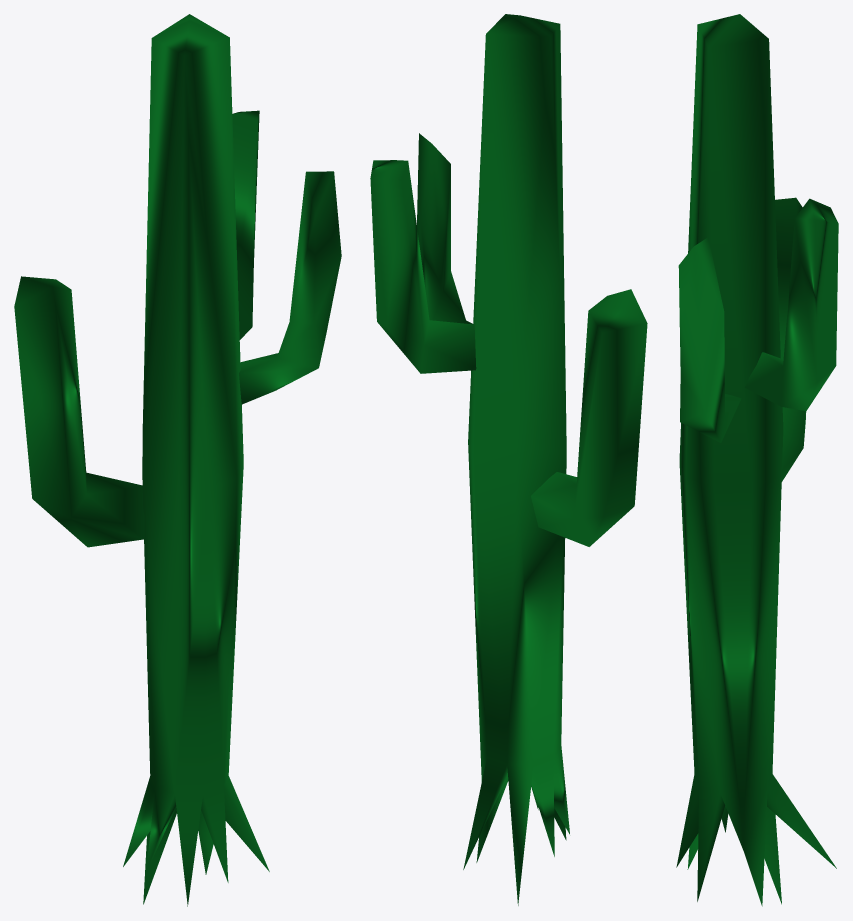
File: SeguaroCactusLarge3_LOD2.obj
3 renders of one model, left to right at view 1: azimuth 30°, elevation 25°; view 2: azimuth 150°, elevation 25°; view 3: azimuth 270°, elevation 25°, orthographic. The views are drawn at different scales.
Parts seen in each view (by area): view 1: SeguaroCactusLarge3_LOD2; view 2: SeguaroCactusLarge3_LOD2; view 3: SeguaroCactusLarge3_LOD2.
Boxes of the visible parts, <box> form: SeguaroCactusLarge3_LOD2: <box>14,14,341,906</box>; SeguaroCactusLarge3_LOD2: <box>370,14,647,905</box>; SeguaroCactusLarge3_LOD2: <box>676,14,838,906</box>.
Size of the model in its own units: 204 by 625 by 103.
